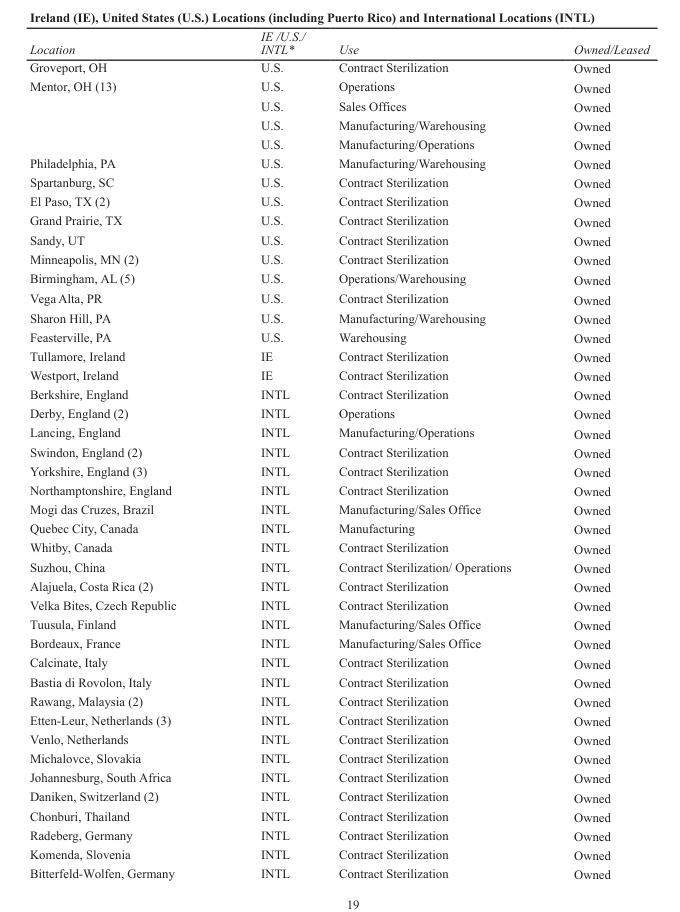table: (28, 29, 648, 881)
table column: (321, 29, 541, 881), (28, 29, 217, 881), (541, 29, 648, 881), (217, 29, 321, 881)
table column header: (28, 29, 648, 57)
table row: (28, 29, 648, 57), (28, 268, 648, 289), (28, 57, 648, 77), (28, 172, 648, 192), (28, 384, 648, 404), (28, 518, 648, 538), (28, 633, 648, 653), (28, 767, 648, 787), (28, 77, 648, 96), (28, 96, 648, 115), (28, 115, 648, 134), (28, 134, 648, 153), (28, 153, 648, 172), (28, 192, 648, 211), (28, 211, 648, 230), (28, 230, 648, 249), (28, 249, 648, 268), (28, 289, 648, 308), (28, 308, 648, 327), (28, 327, 648, 346), (28, 346, 648, 365), (28, 365, 648, 384), (28, 404, 648, 423), (28, 423, 648, 442), (28, 442, 648, 461), (28, 461, 648, 480), (28, 480, 648, 499), (28, 499, 648, 518), (28, 538, 648, 557), (28, 557, 648, 576), (28, 576, 648, 595), (28, 595, 648, 614), (28, 614, 648, 633), (28, 653, 648, 672), (28, 672, 648, 691), (28, 691, 648, 710), (28, 710, 648, 729), (28, 729, 648, 748), (28, 748, 648, 767), (28, 787, 648, 806), (28, 806, 648, 825), (28, 825, 648, 844), (28, 844, 648, 863), (28, 863, 648, 881)
table spanning cell: (28, 77, 217, 153)
